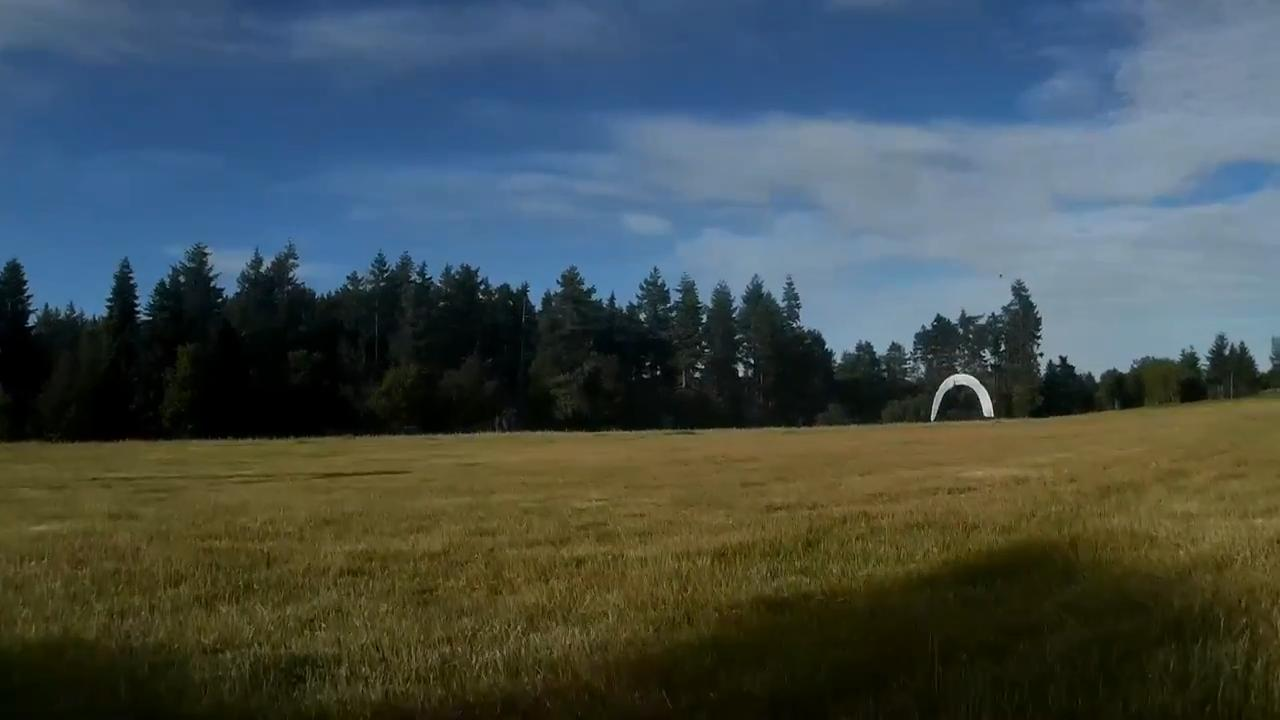gate: (927, 373, 994, 425)
